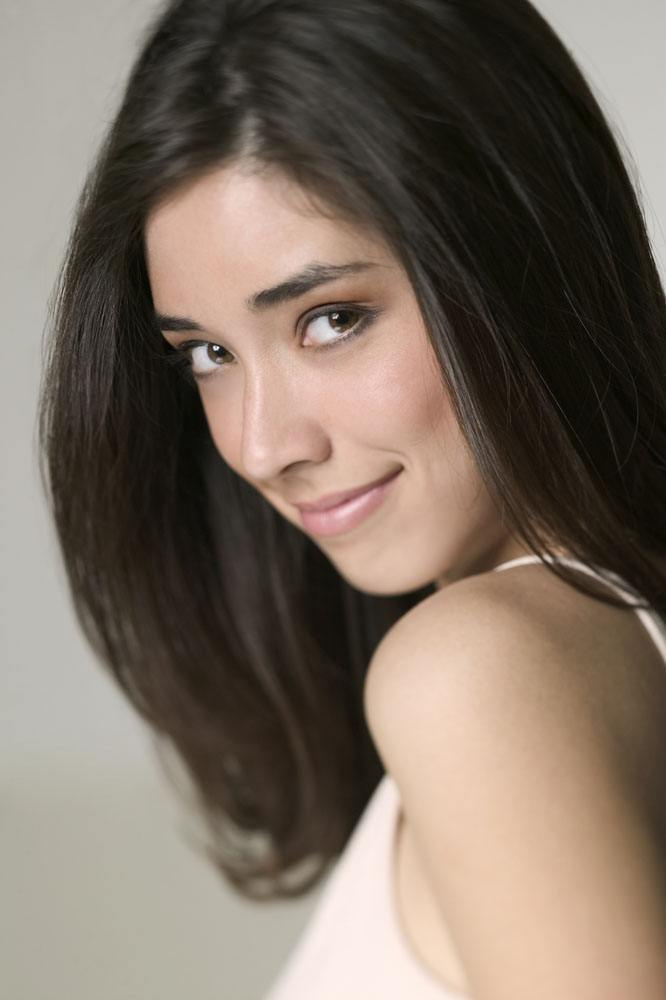person: (95, 24, 630, 930)
